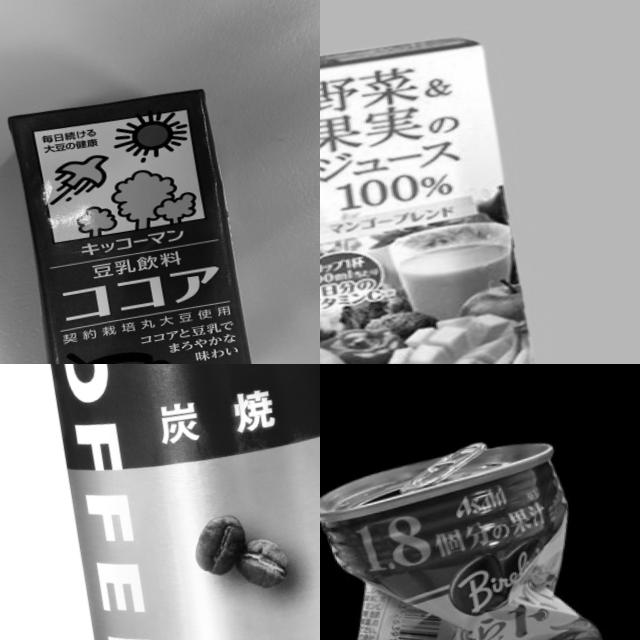Aluminium Foil: (320, 28, 555, 364), (4, 77, 266, 364)
Can: (9, 364, 320, 640), (320, 414, 626, 640)
